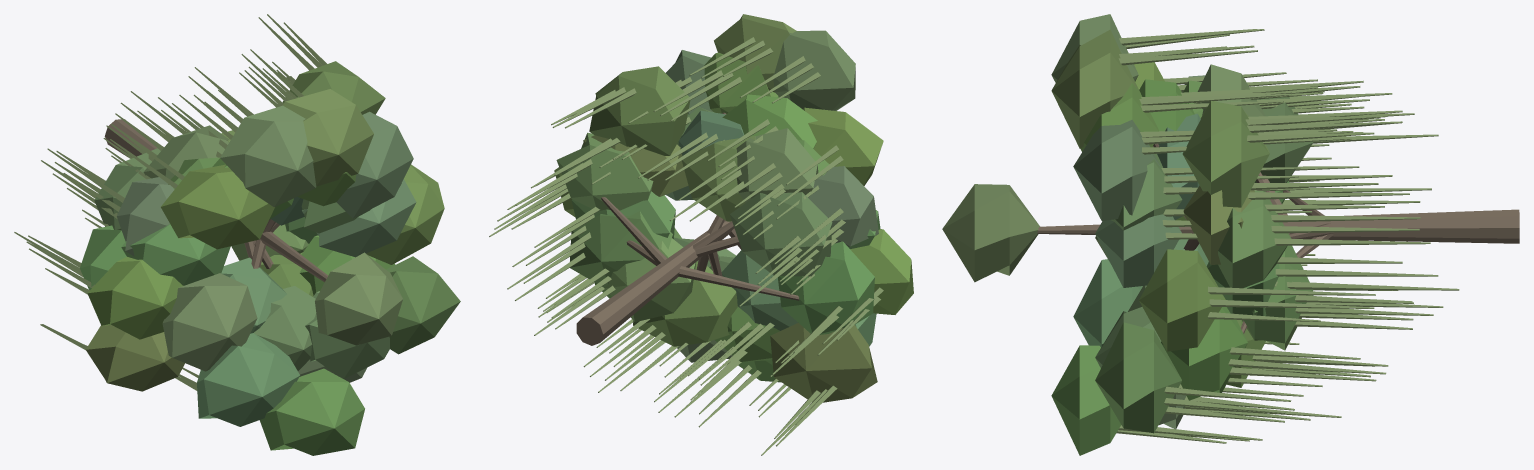
The model's file is tree-willow.glb.
The picture shows the model from 3 angles, left to right: view 1: azimuth 30°, elevation 25°; view 2: azimuth 150°, elevation 25°; view 3: azimuth 270°, elevation 25°; orthographic projection. The views are drawn at different scales.
Visible parts, largest first — view 1: stem; view 2: stem; view 3: stem.
Part boxes in pixels (x1,y1,x2,y2): stem: [14, 14, 460, 455]; stem: [489, 14, 913, 455]; stem: [942, 14, 1519, 455].
Size of the model in its own units: 7.32 by 7.07 by 9.26.
